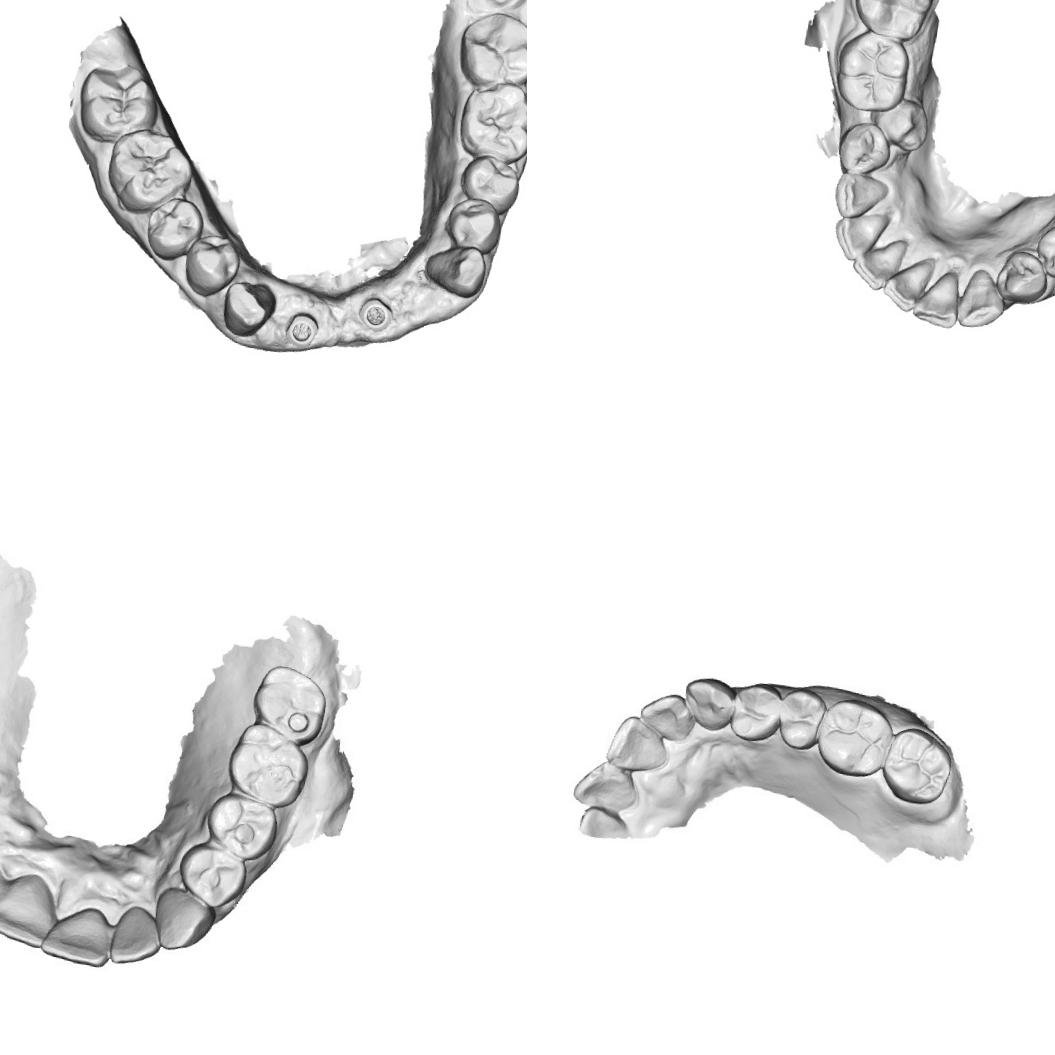canine: (152, 886, 214, 954), (420, 240, 490, 298), (953, 264, 1010, 334), (681, 670, 740, 735), (218, 278, 276, 339), (827, 169, 891, 224)
implant: (352, 293, 396, 334), (288, 310, 327, 348)
incisor: (42, 905, 112, 970), (604, 712, 668, 780), (572, 756, 644, 815), (847, 232, 912, 296), (633, 686, 697, 748), (830, 206, 894, 266), (0, 873, 53, 942), (910, 266, 966, 331), (109, 900, 164, 966), (879, 252, 935, 315)
molar: (100, 120, 195, 218), (225, 716, 310, 808), (72, 58, 158, 148), (810, 695, 899, 781), (830, 27, 914, 116), (878, 723, 958, 808), (453, 7, 527, 94), (453, 78, 527, 165), (252, 662, 330, 741), (848, 0, 940, 45)
premolar: (178, 838, 248, 908), (208, 791, 278, 859), (720, 682, 790, 748), (773, 682, 834, 756), (142, 193, 204, 265), (864, 94, 934, 156), (456, 151, 524, 213), (181, 231, 241, 298), (834, 116, 894, 178), (992, 248, 1050, 308), (444, 194, 503, 247), (1031, 219, 1055, 284)
